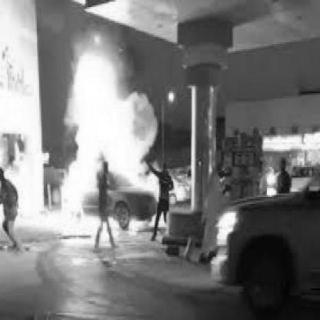Fire: (2, 20, 180, 236)
